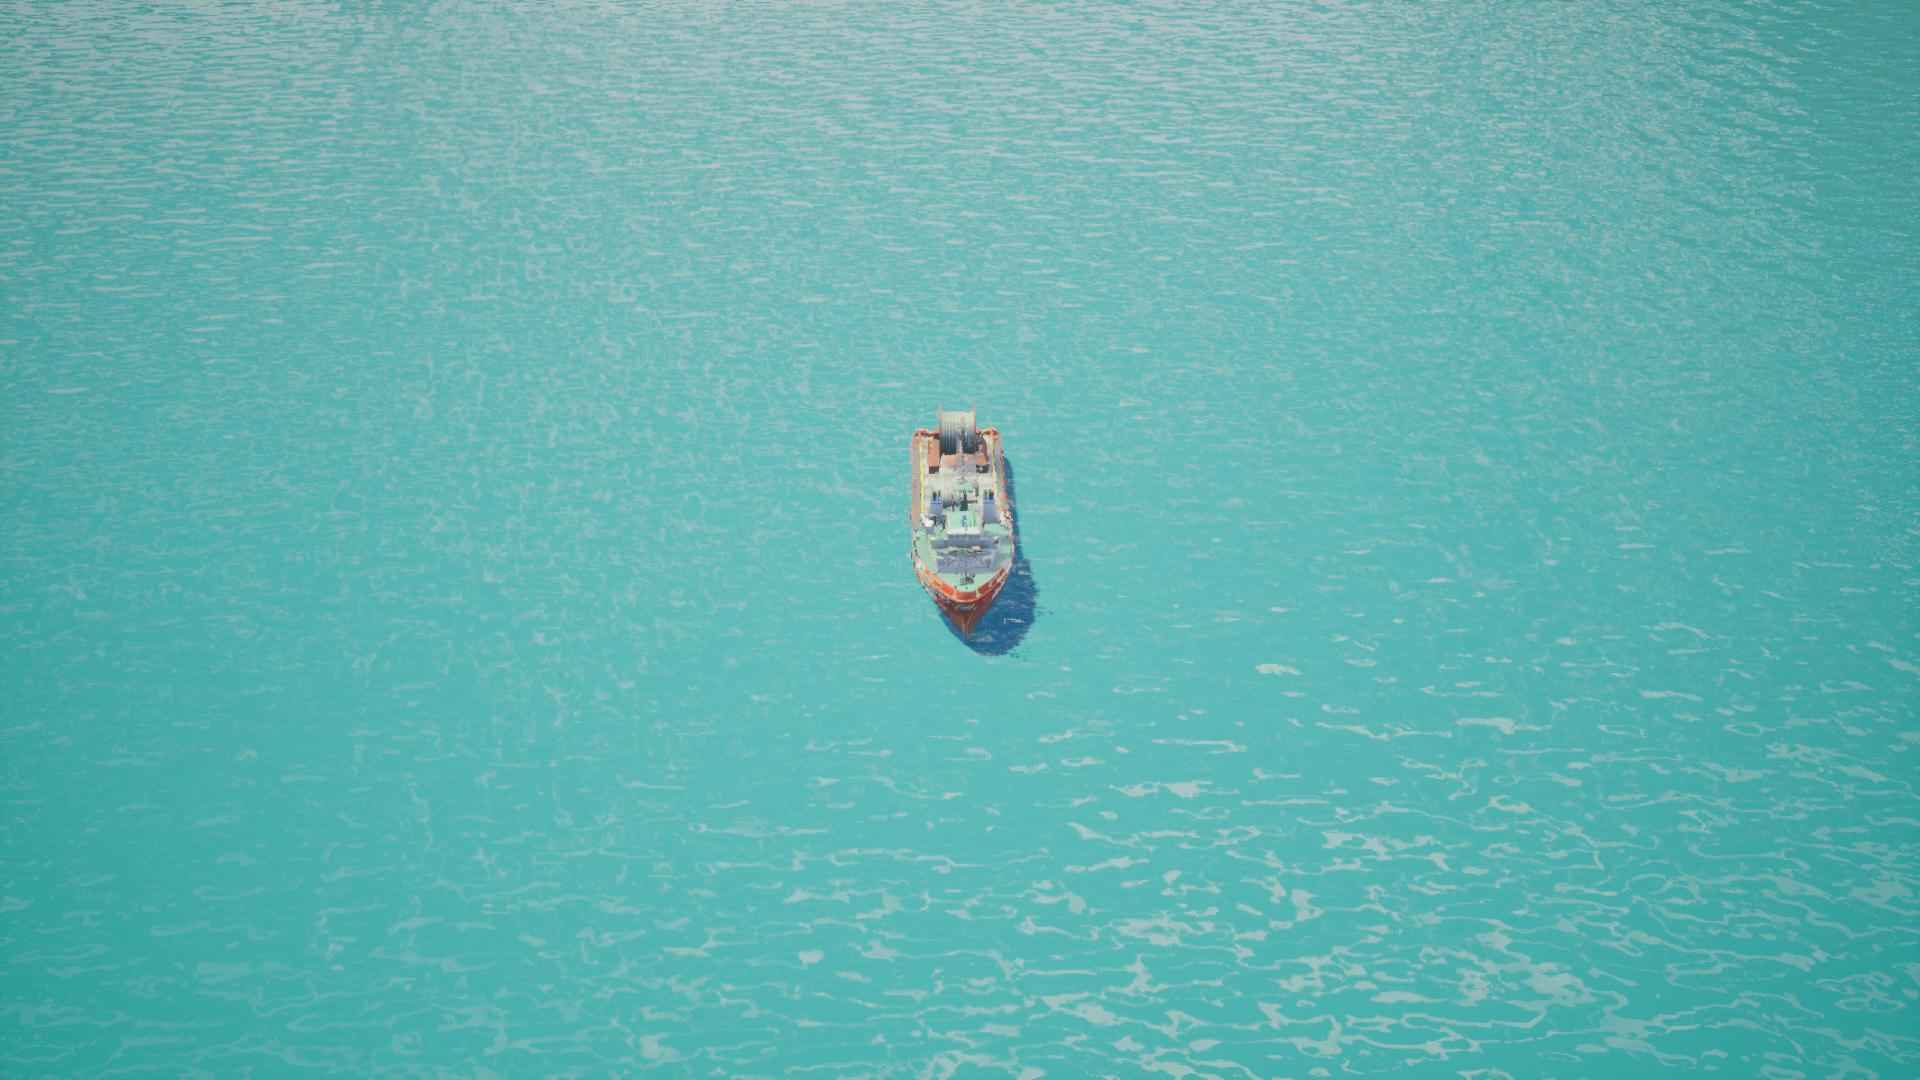Tug Boat: (791, 355, 1088, 678)
